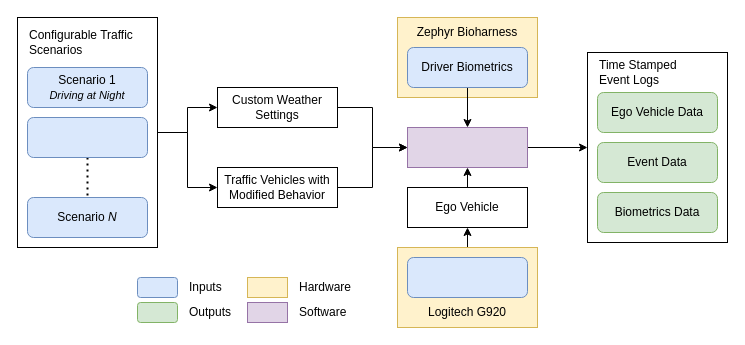
Some shapes in this 745 by 345 pixel diagram are drawn without their labels. Here are the shapes that lost their labels. From the top down, the box of each, then its label:
(26, 116, 148, 158): Scenario 2 High Congestion
(406, 126, 528, 168): CARLA Simulation Loop
(406, 256, 528, 298): Human Control Input
